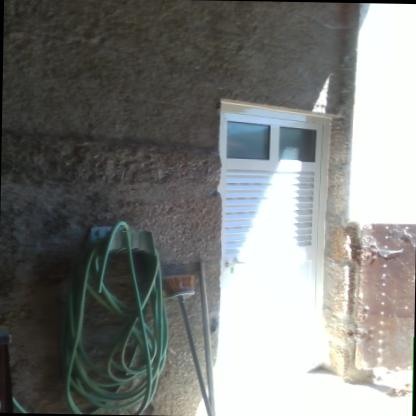closed: (193, 84, 350, 396)
